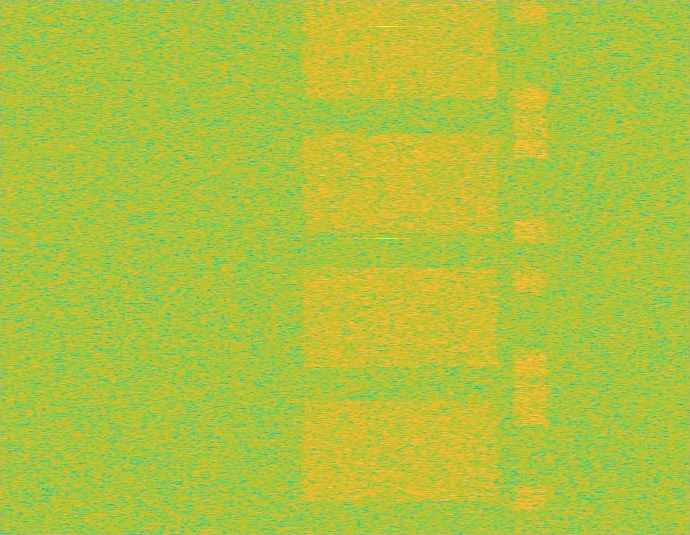5G: (297, 0, 504, 534)
LTE: (514, 0, 548, 534)
Radar: (380, 0, 394, 534)
